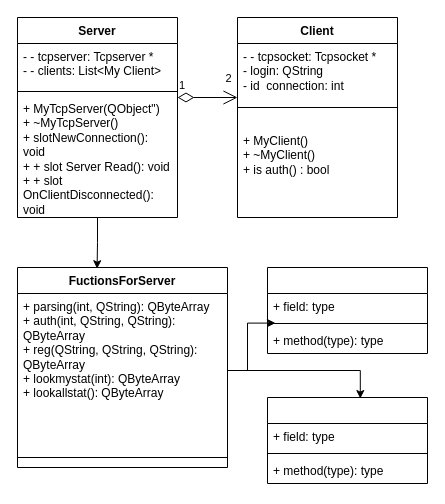
The diagram is 445 pixels wide and 504 high, and some of its shapes have lost their labels. Each missing label, with the box of its shape:
DB: (266, 266, 428, 354)
DB_Destroyer: (266, 396, 428, 484)
